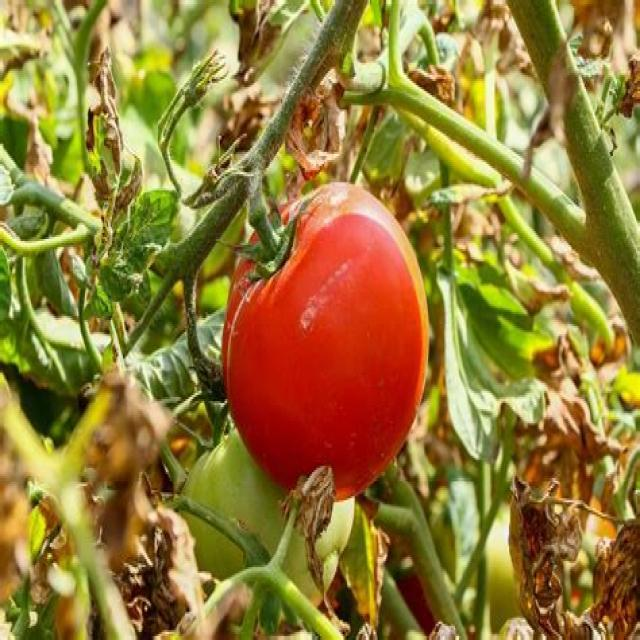Tomato: (222, 183, 430, 506)
